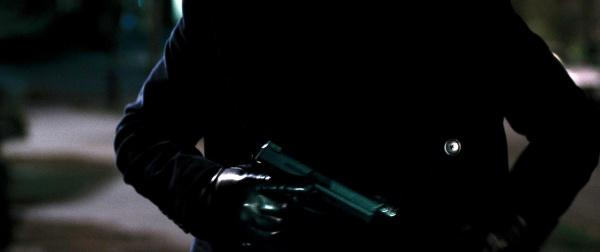Gun: (251, 141, 401, 234)
